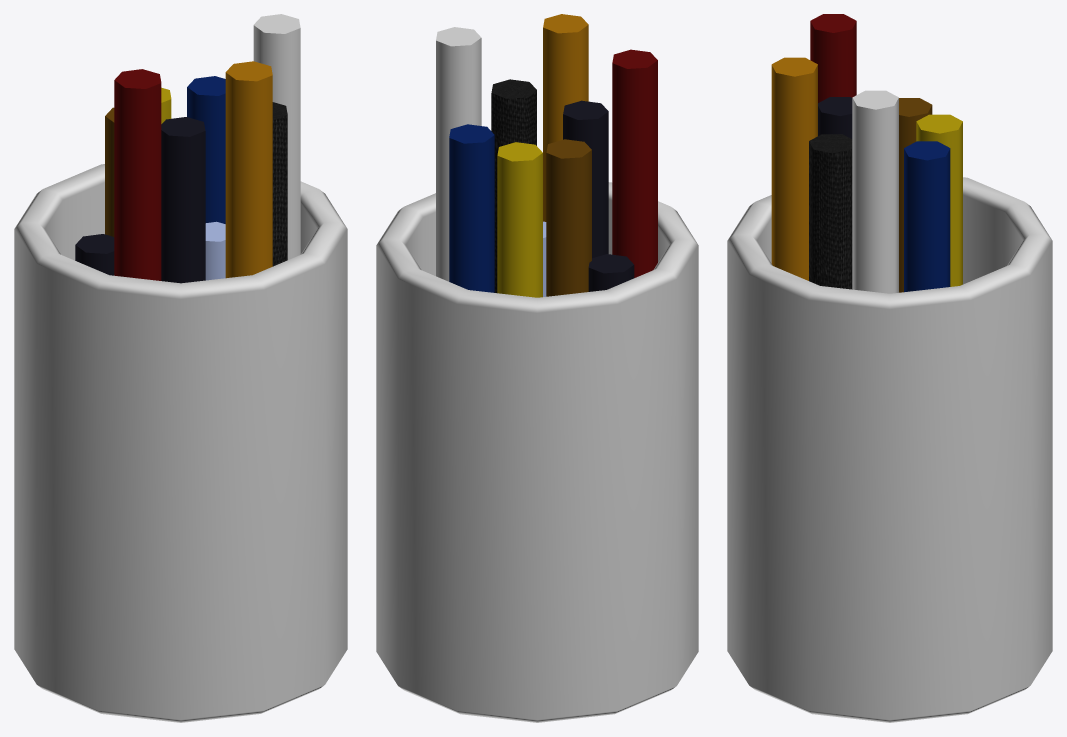
Rendered from Eden_pencils.fbx.
3 views of the same model, side by side, from view 1: azimuth 30°, elevation 25°; view 2: azimuth 150°, elevation 25°; view 3: azimuth 270°, elevation 25° (orthographic). The views are drawn at different scales.
Visible parts, largest first — view 1: pencils; view 2: pencils; view 3: pencils.
Part boxes in pixels (<box>): pencils: <box>14,14,347,722</box>; pencils: <box>376,14,698,722</box>; pencils: <box>727,14,1052,722</box>.
Size of the model in its own units: 0.0028 by 0.0057 by 0.0028.
9 materials, 1 textured.
